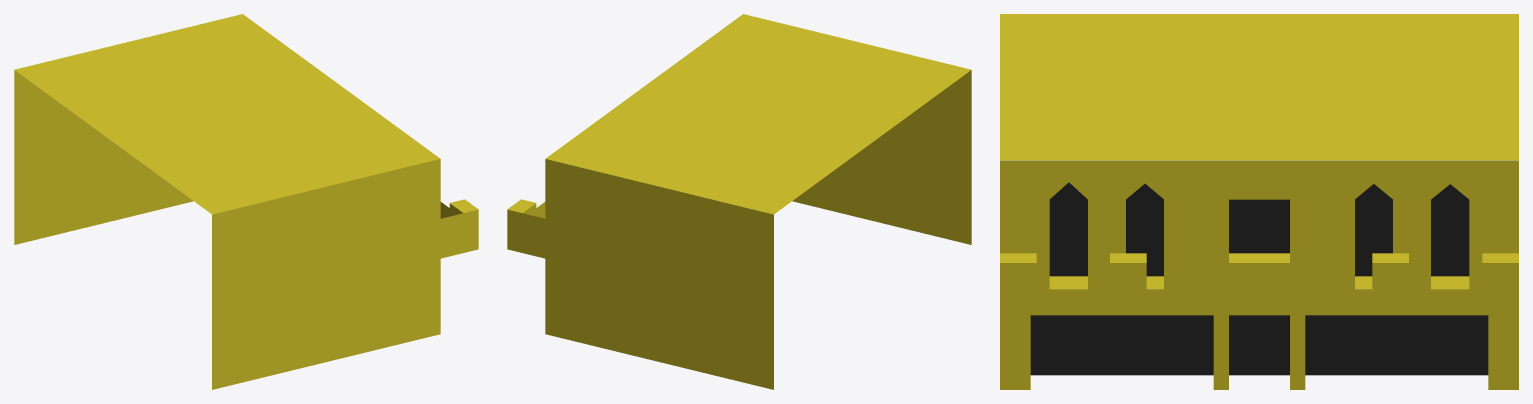
Rendered from Edificio-2.fbx.
The picture shows the model from 3 angles, left to right: view 1: azimuth 30°, elevation 25°; view 2: azimuth 150°, elevation 25°; view 3: azimuth 270°, elevation 25°; orthographic projection. The views are drawn at different scales.
Parts seen in each view (by area): view 1: Plane; view 2: Plane; view 3: Plane.
Boxes of the visible parts, x1,y1,x2,y2 form: Plane: (14,14,478,389); Plane: (507,14,971,389); Plane: (1000,14,1518,389).
Size of the model in its own units: 700 by 440 by 900.
